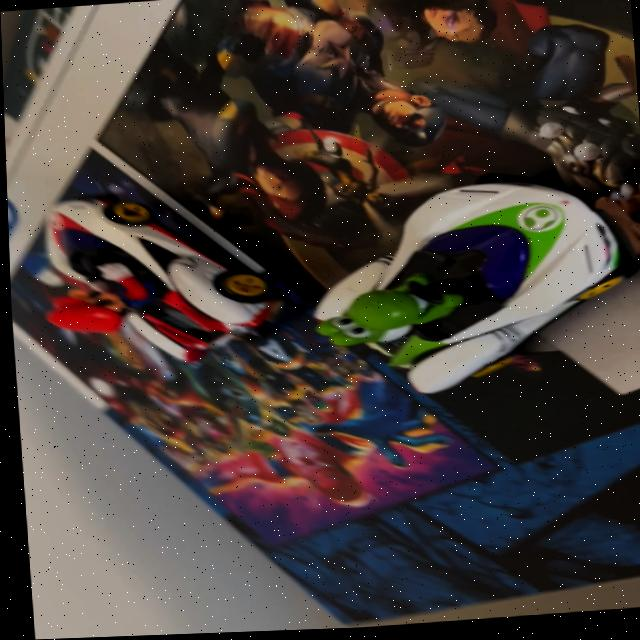mario: (22, 175, 292, 385)
yoshi: (289, 166, 640, 417)
